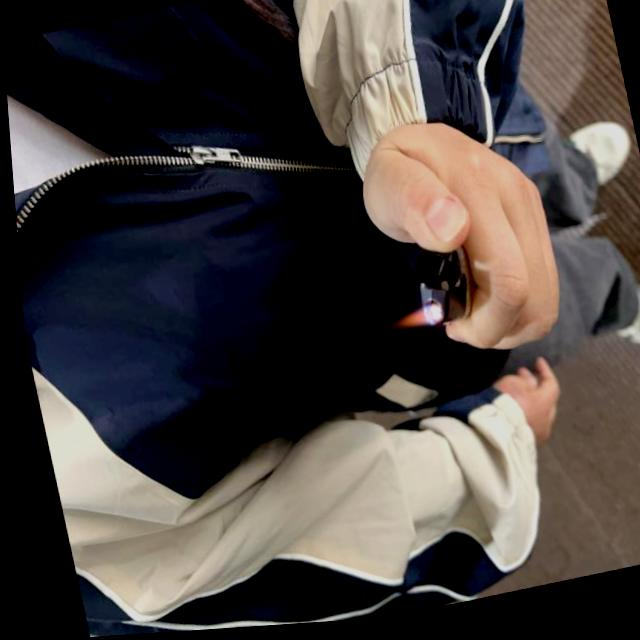Fire: (389, 312, 426, 336)
